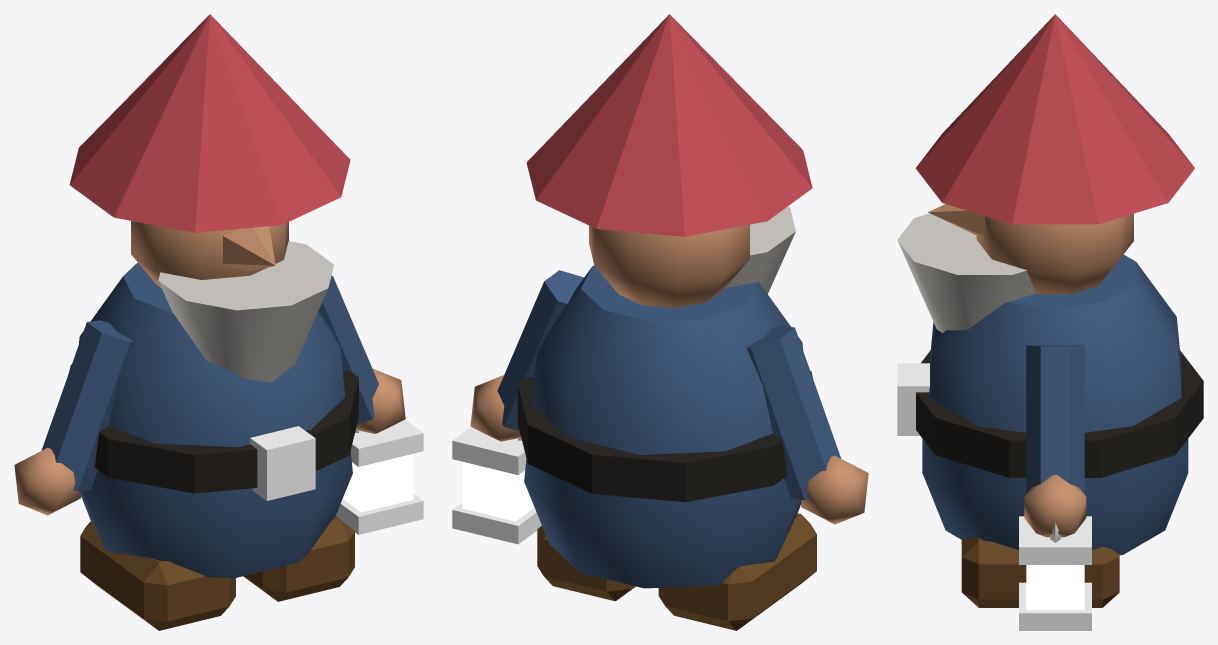
Rendered from gnome.glb.
3 views of the same model, side by side, from view 1: azimuth 30°, elevation 25°; view 2: azimuth 150°, elevation 25°; view 3: azimuth 270°, elevation 25° (orthographic). The views are drawn at different scales.
Visible parts, largest first — view 1: Gnome; view 2: Gnome; view 3: Gnome.
Part boxes in pixels (x1=…): Gnome: x1=14, y1=14, x2=423, y2=630; Gnome: x1=452, y1=14, x2=868, y2=630; Gnome: x1=897, y1=14, x2=1203, y2=630.
Size of the model in its own units: 0.3569 by 0.5 by 0.252.
